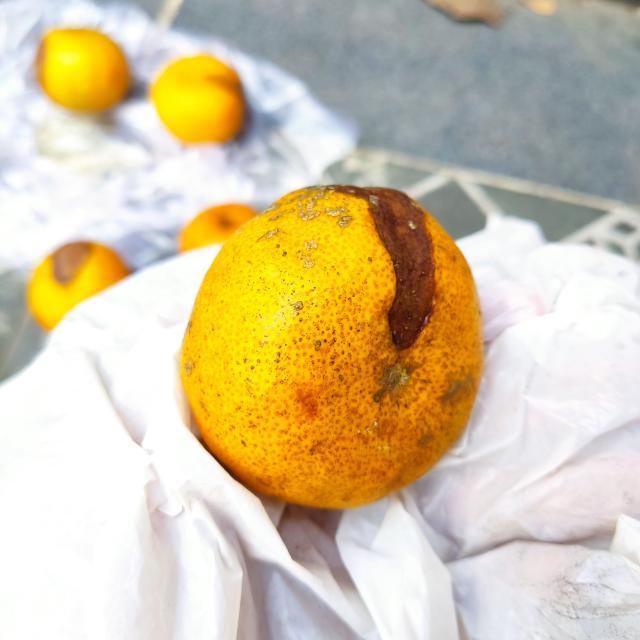orange: (185, 186, 485, 511)
